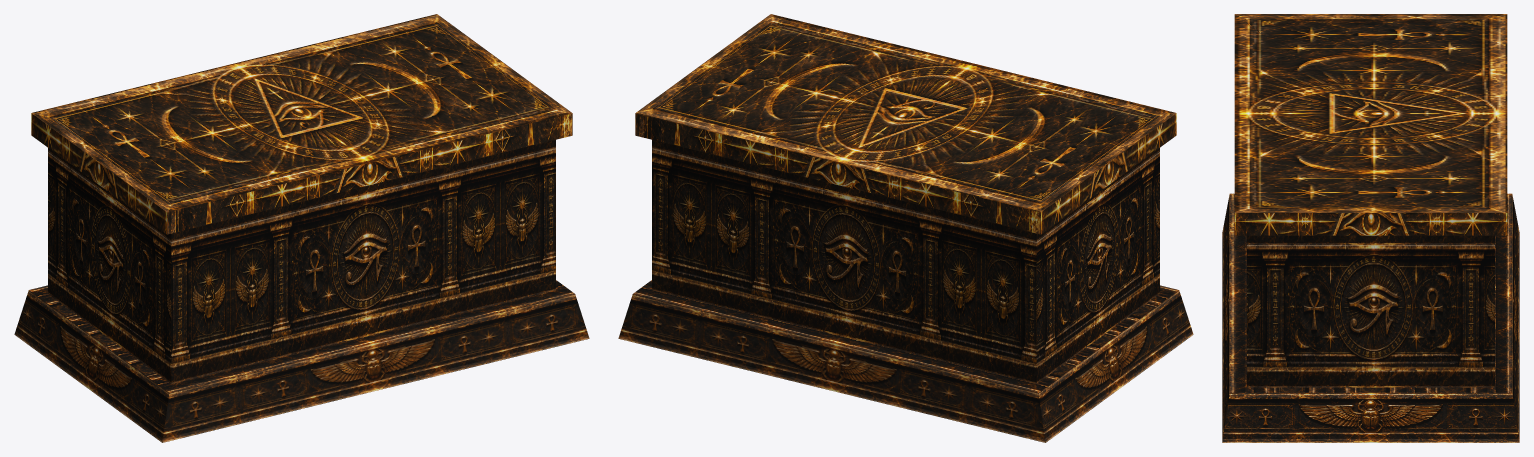
The model's file is pyramid_altar.glb.
3 views of the same model, side by side, from view 1: azimuth 30°, elevation 25°; view 2: azimuth 150°, elevation 25°; view 3: azimuth 270°, elevation 25° (orthographic).
Visible parts, largest first — view 1: Cube, Cube.001, Cube.002; view 2: Cube, Cube.001, Cube.002; view 3: Cube.001, Cube, Cube.002.
Part boxes in pixels (box(x1,y1,x2,y2)): Cube: box(48, 140, 555, 383); Cube.001: box(31, 14, 572, 234); Cube.002: box(14, 280, 589, 442); Cube: box(652, 140, 1159, 383); Cube.001: box(635, 14, 1176, 234); Cube.002: box(618, 280, 1193, 442); Cube.001: box(1234, 14, 1507, 235); Cube: box(1247, 235, 1494, 387); Cube.002: box(1222, 193, 1519, 442).
Bounding box in the file's own units: 2 × 1 × 1.2.
3 materials, 3 textured.
